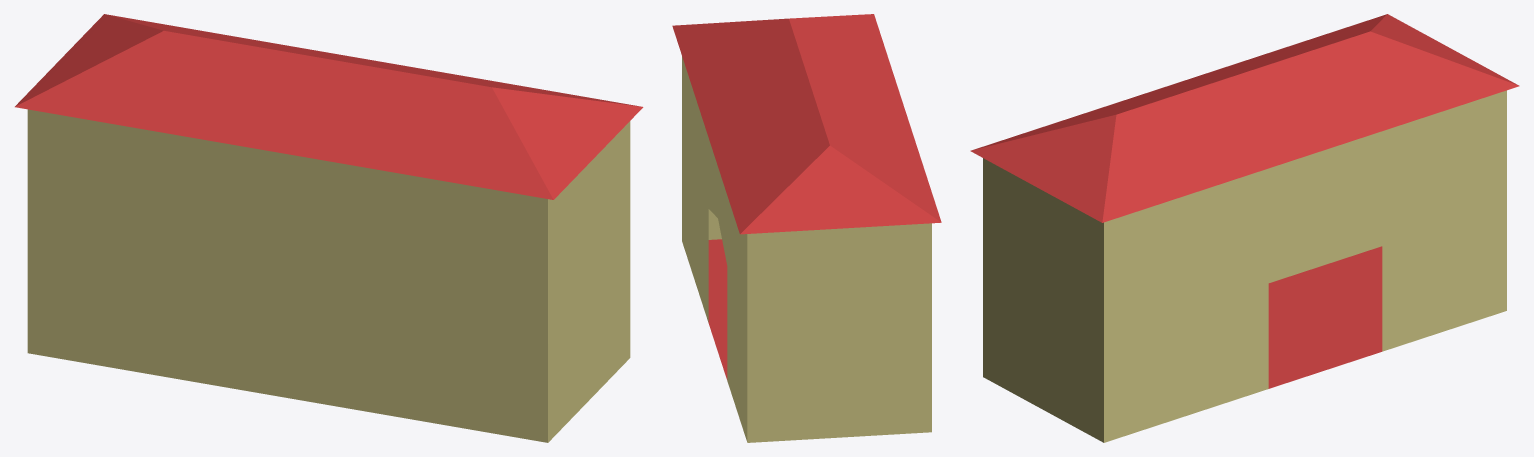
3 views of the same model, side by side, from view 1: azimuth 30°, elevation 25°; view 2: azimuth 150°, elevation 25°; view 3: azimuth 270°, elevation 25° (orthographic). The views are drawn at different scales.
Bounding box in the file's own units: 26.68 × 29.67 × 16.08.
